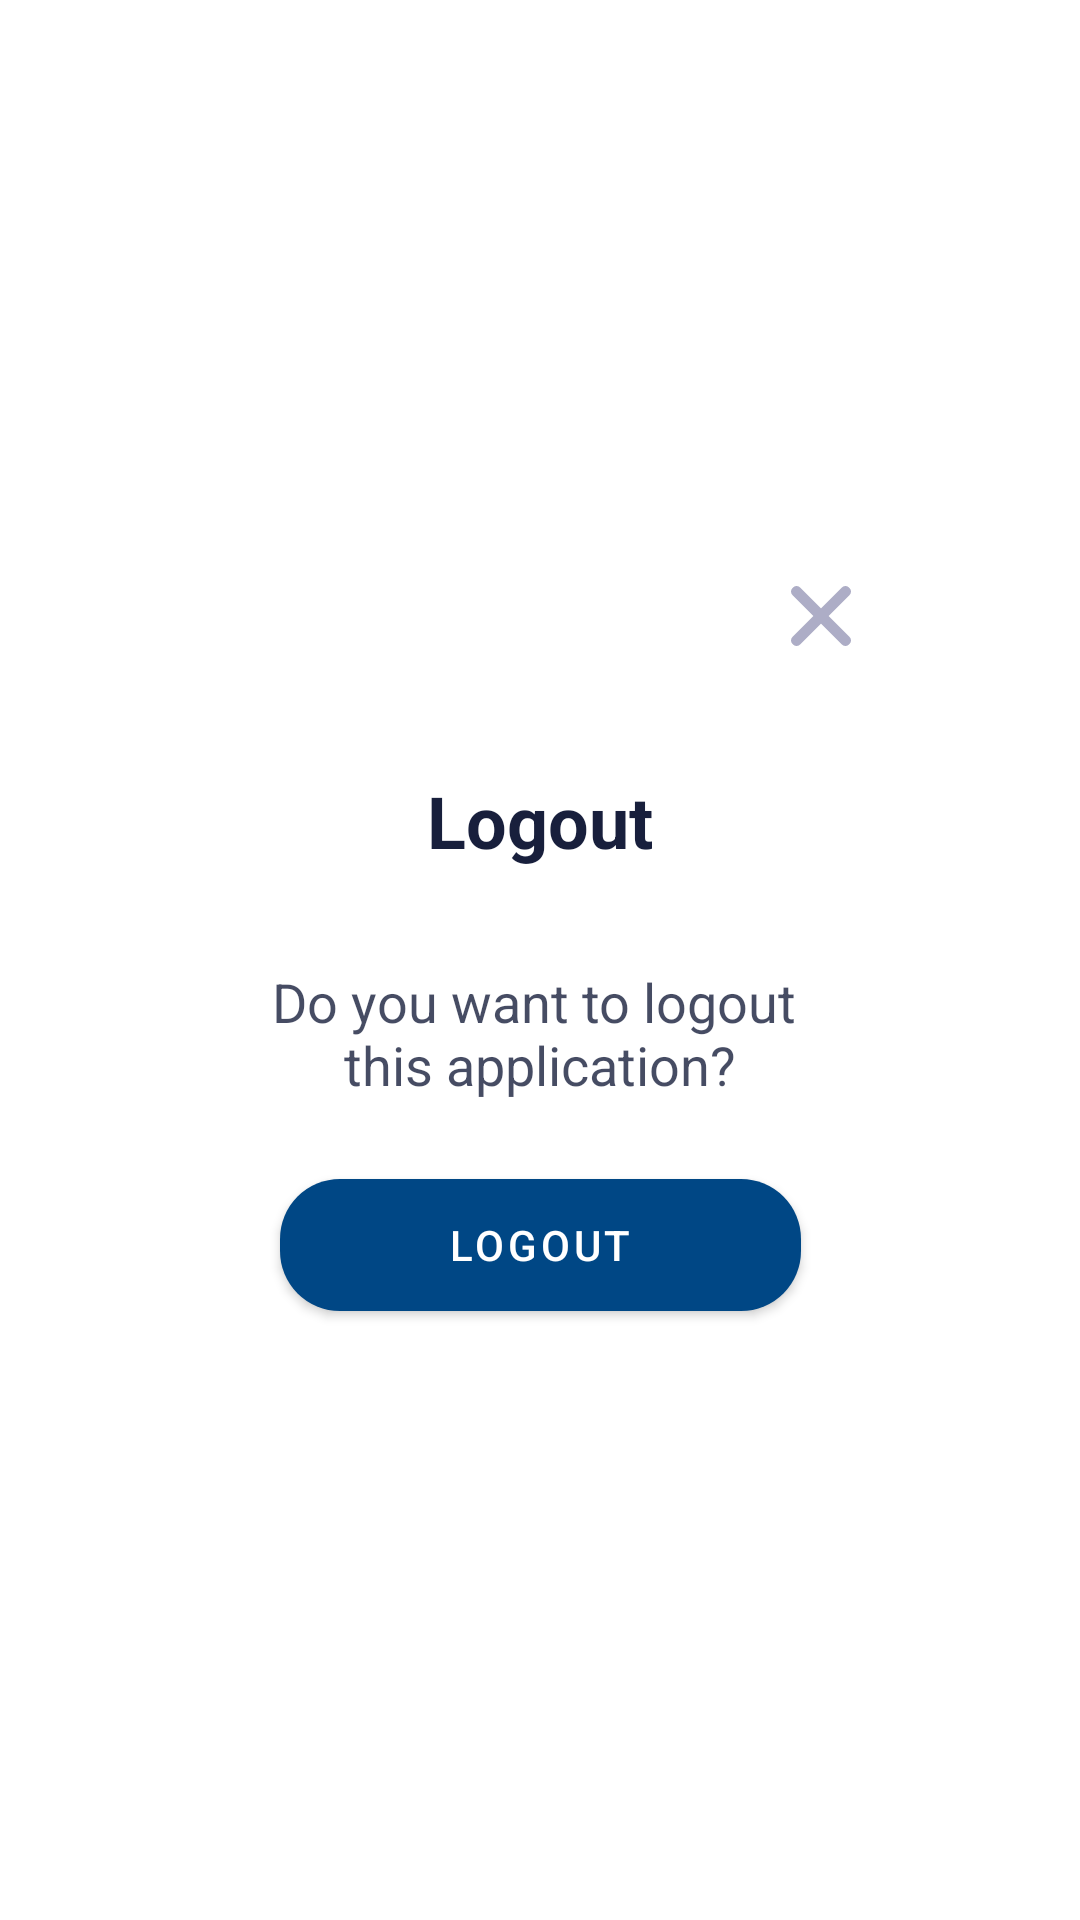

Screen size 1080 × 1920. Icon name, then its center in pixels as [x,y]:
close: [821,616]
